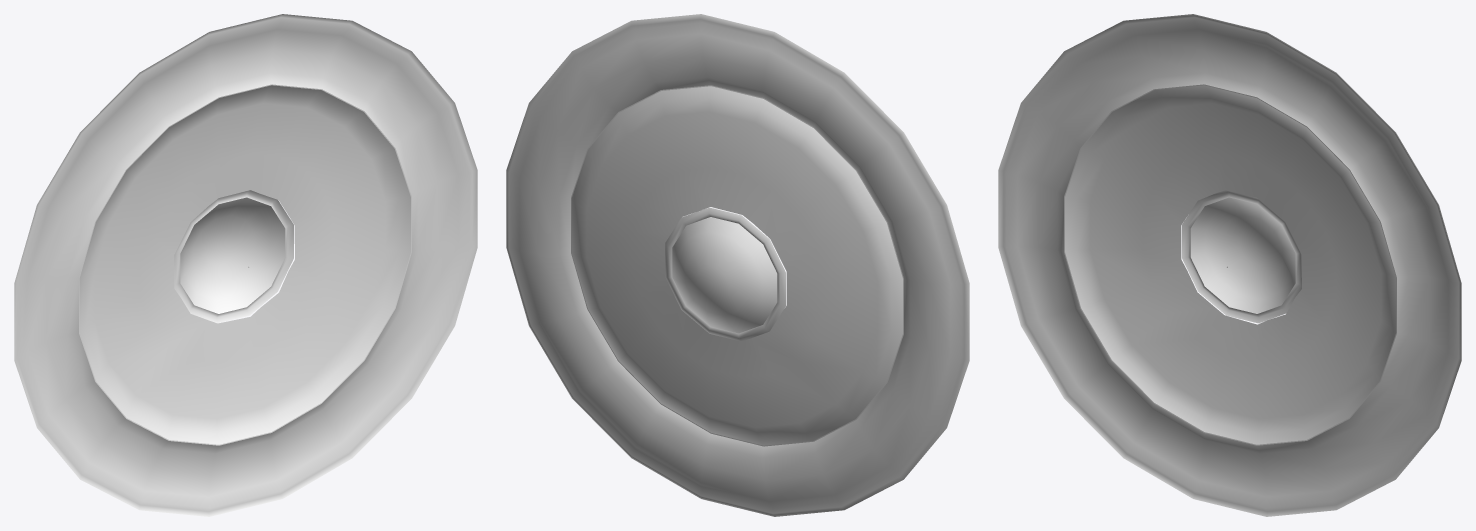
Rendered from wheelGoldFlashHolder.fbx.
3 views of the same model, side by side, from view 1: azimuth 30°, elevation 25°; view 2: azimuth 150°, elevation 25°; view 3: azimuth 330°, elevation 25° (orthographic).
Visible parts, largest first — view 1: bonus_wheel_mesh_outside, bonus_wheel_mesh_middle, bonus_wheel_inside; view 2: bonus_wheel_mesh_outside, bonus_wheel_mesh_middle, bonus_wheel_inside; view 3: bonus_wheel_mesh_outside, bonus_wheel_mesh_middle, bonus_wheel_inside.
Part boxes in pixels (left/top/right/bottom): bonus_wheel_mesh_outside: left=14, top=14, right=477, bottom=516; bonus_wheel_mesh_middle: left=79, top=84, right=411, bottom=445; bonus_wheel_inside: left=174, top=190, right=293, bottom=323; bonus_wheel_mesh_outside: left=506, top=14, right=969, bottom=516; bonus_wheel_mesh_middle: left=571, top=85, right=903, bottom=446; bonus_wheel_inside: left=665, top=207, right=785, bottom=341; bonus_wheel_mesh_outside: left=998, top=14, right=1461, bottom=516; bonus_wheel_mesh_middle: left=1064, top=84, right=1396, bottom=445; bonus_wheel_inside: left=1182, top=190, right=1301, bottom=323.
Size of the model in its own units: 3.92 by 3.92 by 0.4149.
1 material, 1 textured.
